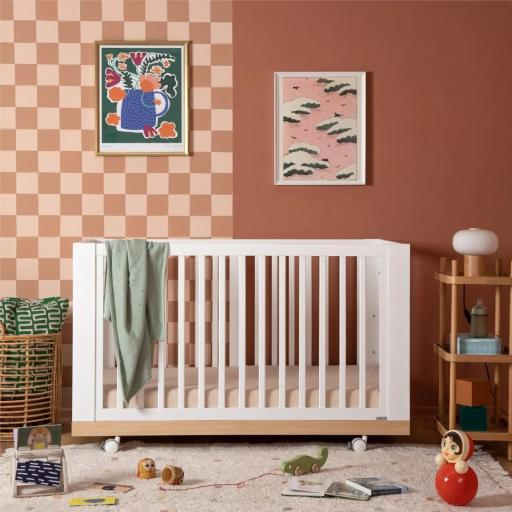crib: (74, 237, 408, 436)
